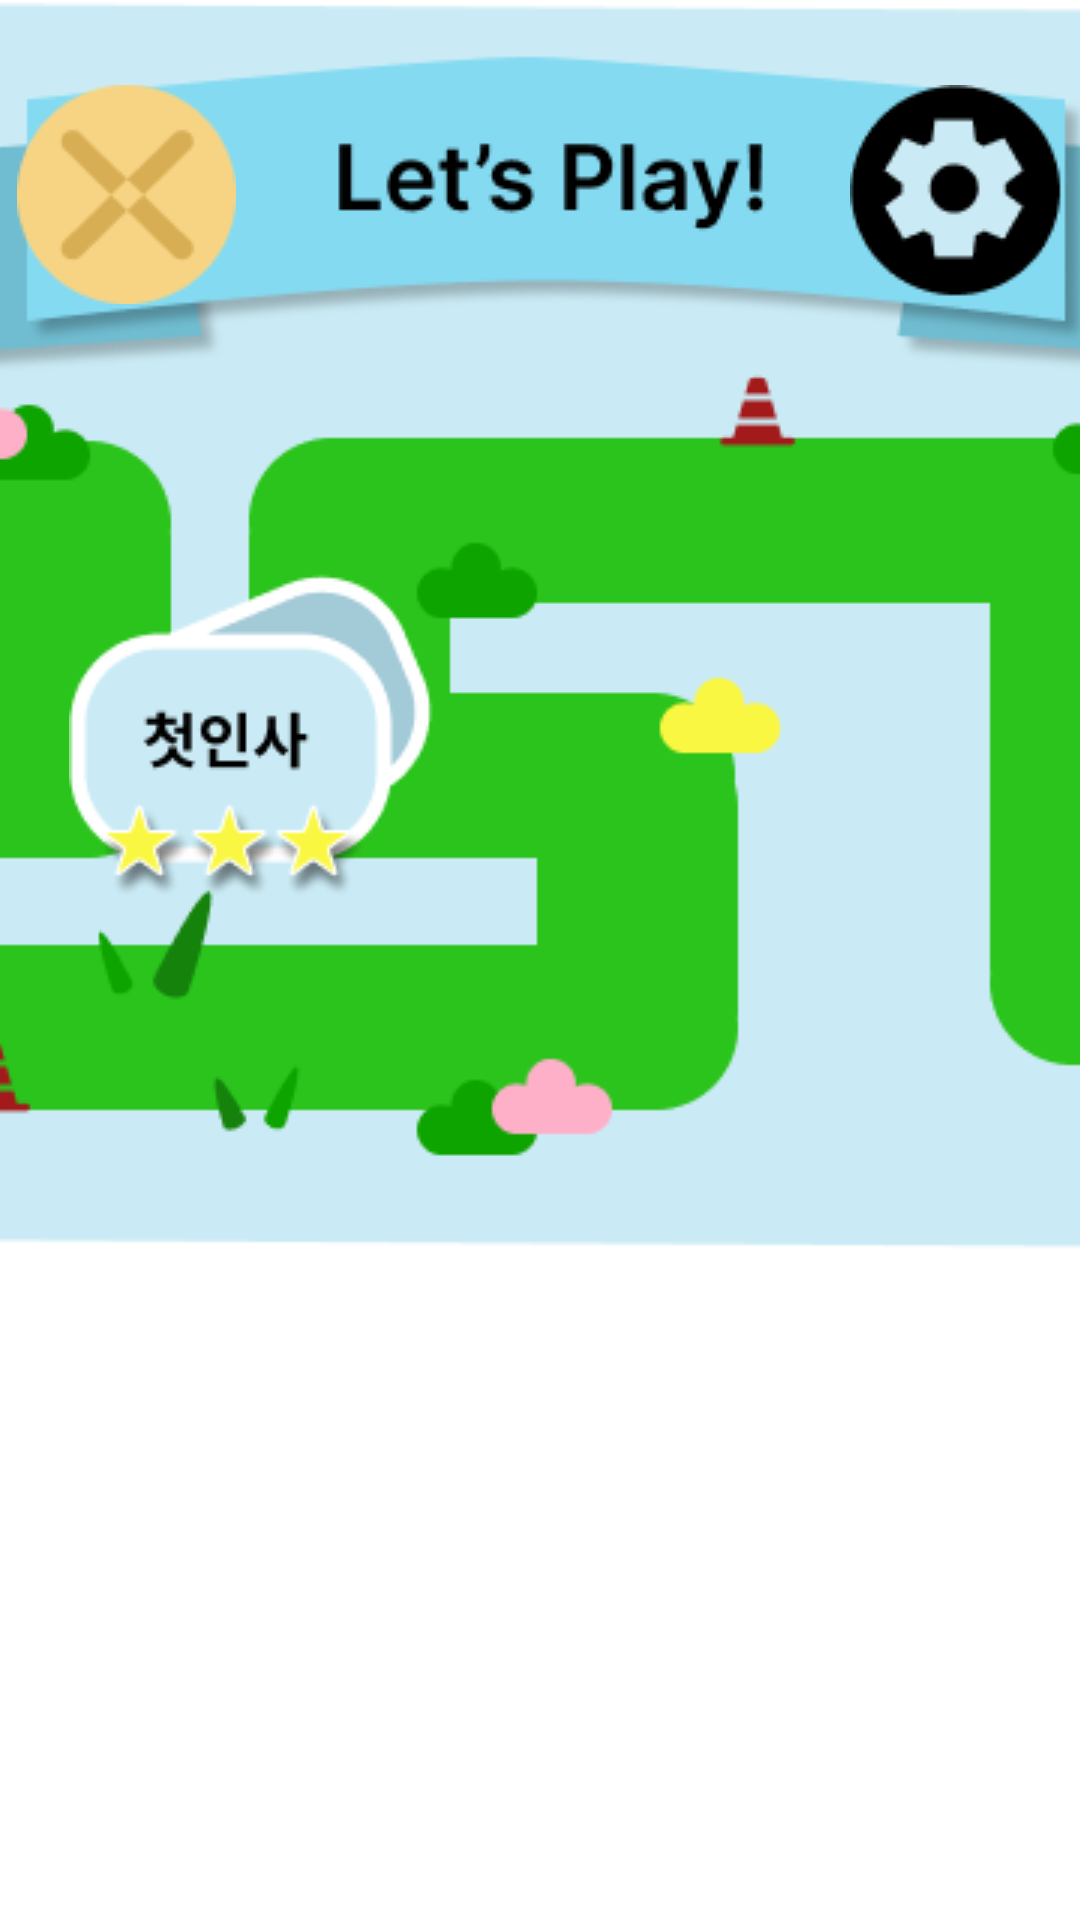

Named icons in this screenshot (1080px x 1920px) and their centers, point (x, y):
close: point (126, 194)
setting: point (956, 191)
